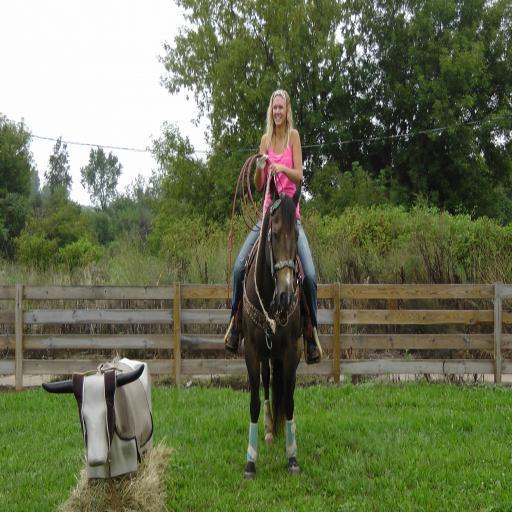horse: (239, 174, 307, 483)
